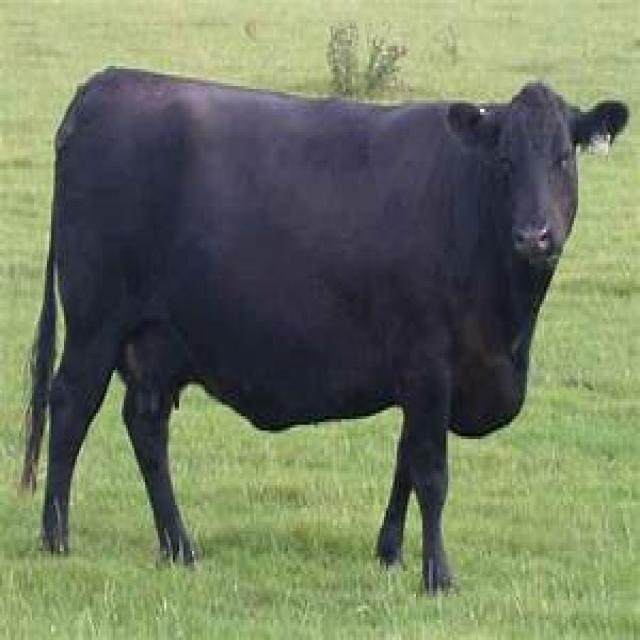animal: (43, 72, 628, 583)
